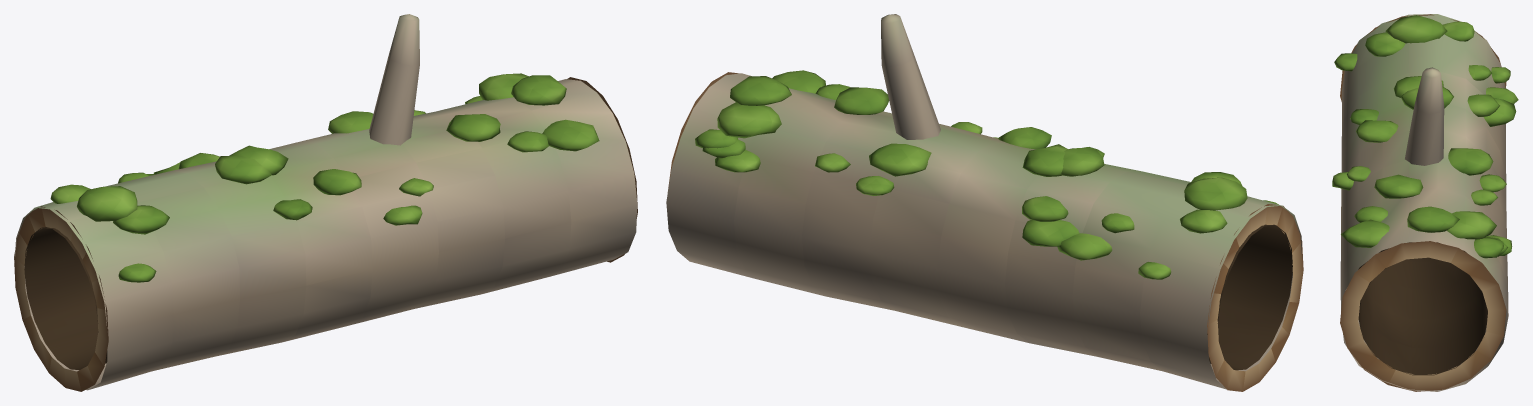
The model's file is PLN_Log_Mossy.fbx.
The picture shows the model from 3 angles, left to right: view 1: azimuth 30°, elevation 25°; view 2: azimuth 150°, elevation 25°; view 3: azimuth 270°, elevation 25°; orthographic projection. The views are drawn at different scales.
Visible parts, largest first — view 1: PLN_Log_Mossy; view 2: PLN_Log_Mossy; view 3: PLN_Log_Mossy.
Part boxes in pixels (<box>): PLN_Log_Mossy: <box>14,14,637,391</box>; PLN_Log_Mossy: <box>666,14,1303,391</box>; PLN_Log_Mossy: <box>1332,14,1518,391</box>.
Size of the model in its own units: 1.82 by 0.9198 by 0.6252.
